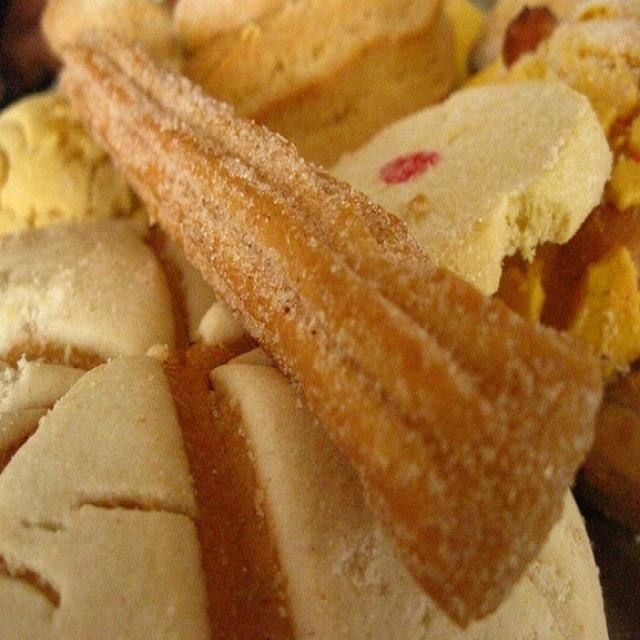炸货点心: (33, 18, 601, 602)
